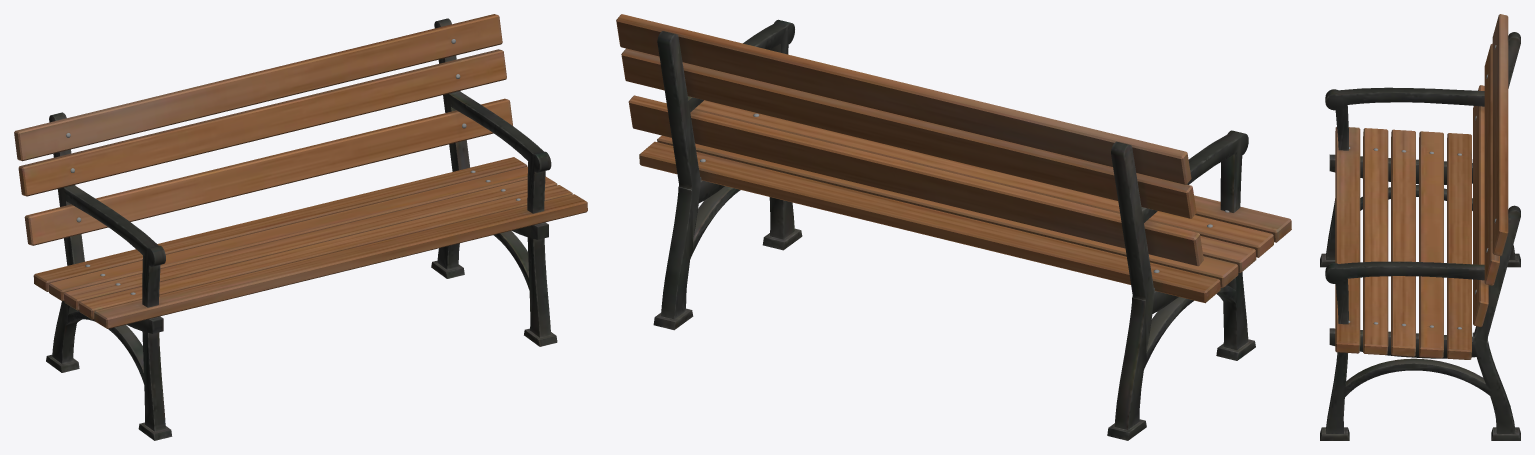
The model's file is p_bench.glb.
The picture shows the model from 3 angles, left to right: view 1: azimuth 30°, elevation 25°; view 2: azimuth 150°, elevation 25°; view 3: azimuth 270°, elevation 25°; orthographic projection. The views are drawn at different scales.
Parts seen in each view (by area): view 1: park-bench_body; view 2: park-bench_body; view 3: park-bench_body.
Part boxes in pixels (left/top/right/bottom): park-bench_body: left=14, top=14, right=587, bottom=440; park-bench_body: left=616, top=14, right=1291, bottom=440; park-bench_body: left=1320, top=14, right=1520, bottom=440.
Size of the model in its own units: 1.8 by 0.8843 by 0.704.
1 material, 1 textured.
